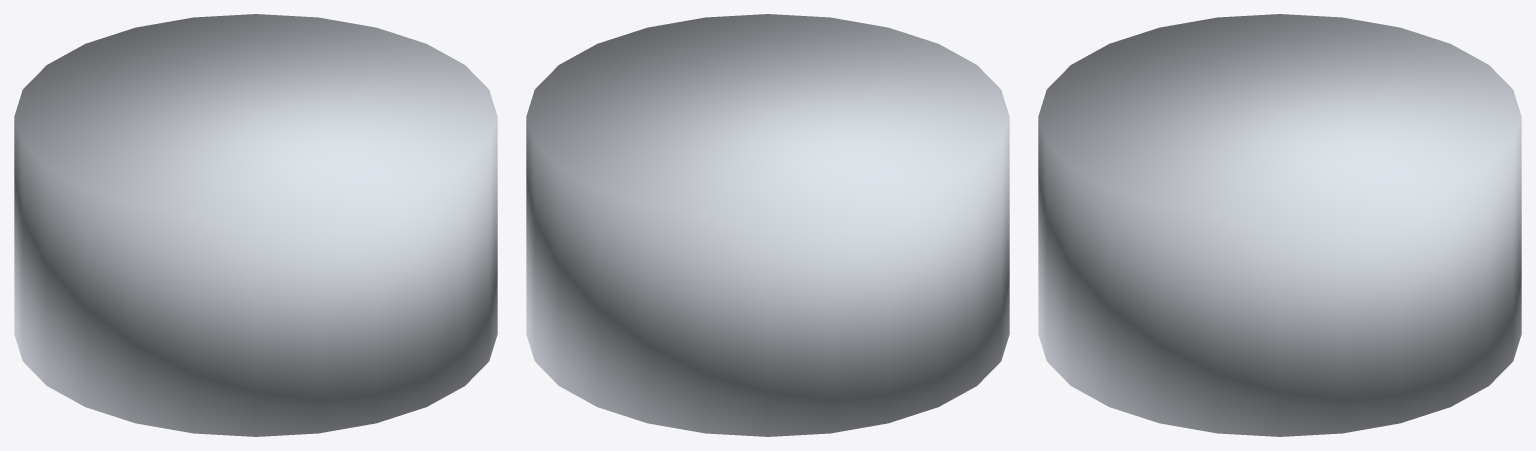
File: KRM_M11_Cylinder.008.fbx
3 renders of one model, left to right at view 1: azimuth 30°, elevation 25°; view 2: azimuth 150°, elevation 25°; view 3: azimuth 270°, elevation 25°, orthographic.
Parts seen in each view (by area): view 1: KRM_M11_Cylinder.008; view 2: KRM_M11_Cylinder.008; view 3: KRM_M11_Cylinder.008.
Boxes of the visible parts, x1,y1,x2,y2 form: KRM_M11_Cylinder.008: [14, 14, 497, 436]; KRM_M11_Cylinder.008: [526, 14, 1009, 436]; KRM_M11_Cylinder.008: [1038, 14, 1521, 436].
Bounding box in the file's own units: 200 × 100 × 200.
Materials: 1 (1 with a texture image).
